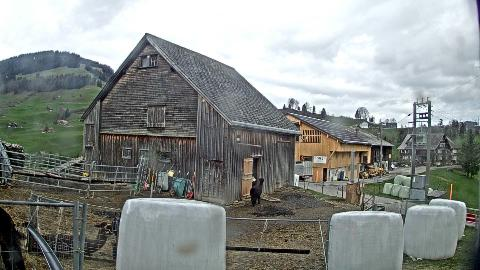car: (390, 162, 396, 172)
sheep: (37, 220, 114, 260), (0, 204, 28, 270), (250, 177, 266, 207), (252, 176, 256, 184)
